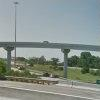Bridge: (9, 32, 94, 65)
